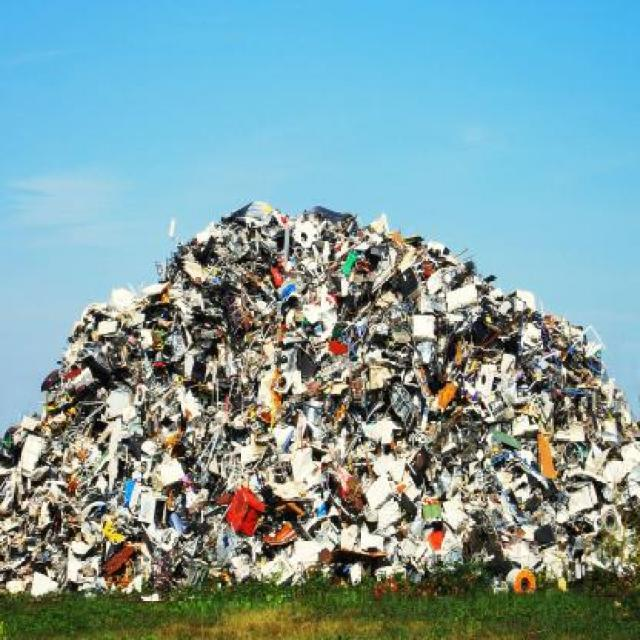garbage: (376, 351, 637, 590), (232, 216, 366, 586), (132, 259, 224, 583), (7, 423, 126, 589), (465, 279, 529, 360)
